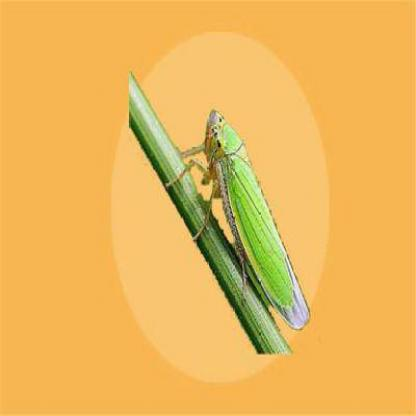Green-Leafhopper: (171, 103, 311, 330)
